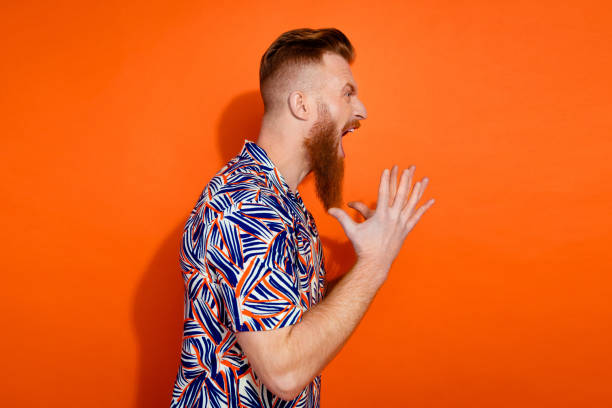Male: (168, 27, 438, 408)
